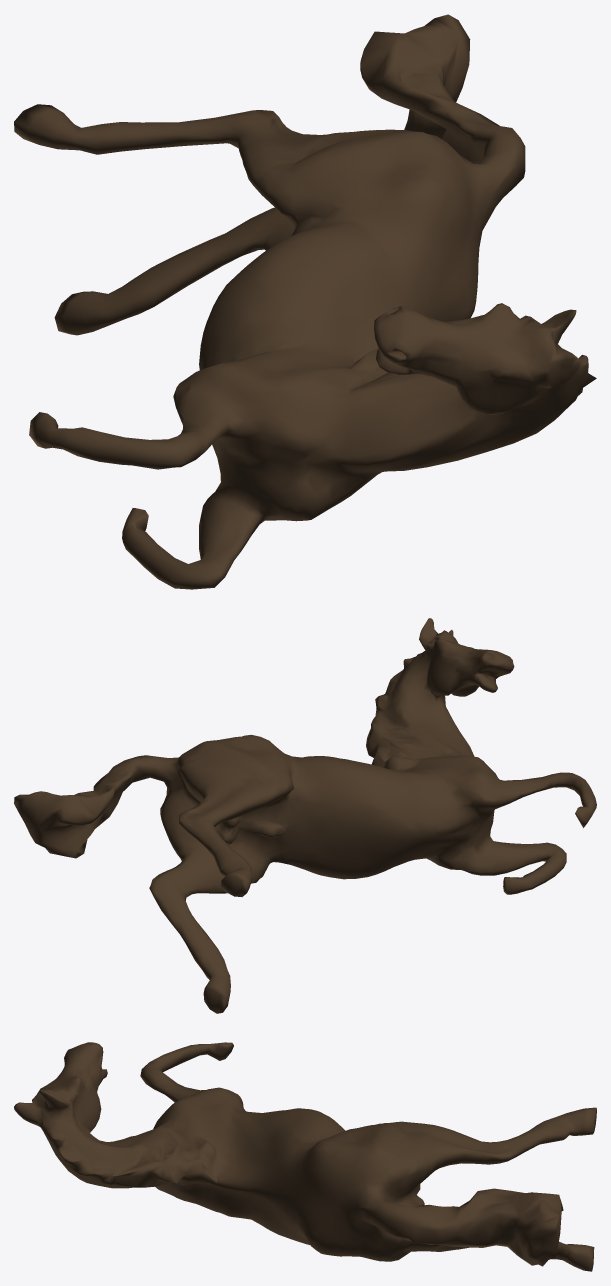
Rendered from Horse.obj.
3 renders of one model, top to bottom at view 1: azimuth 30°, elevation 25°; view 2: azimuth 150°, elevation 25°; view 3: azimuth 270°, elevation 25°, orthographic. The views are drawn at different scales.
Bounding box in the file's own units: 71.58 × 32.46 × 82.18.
